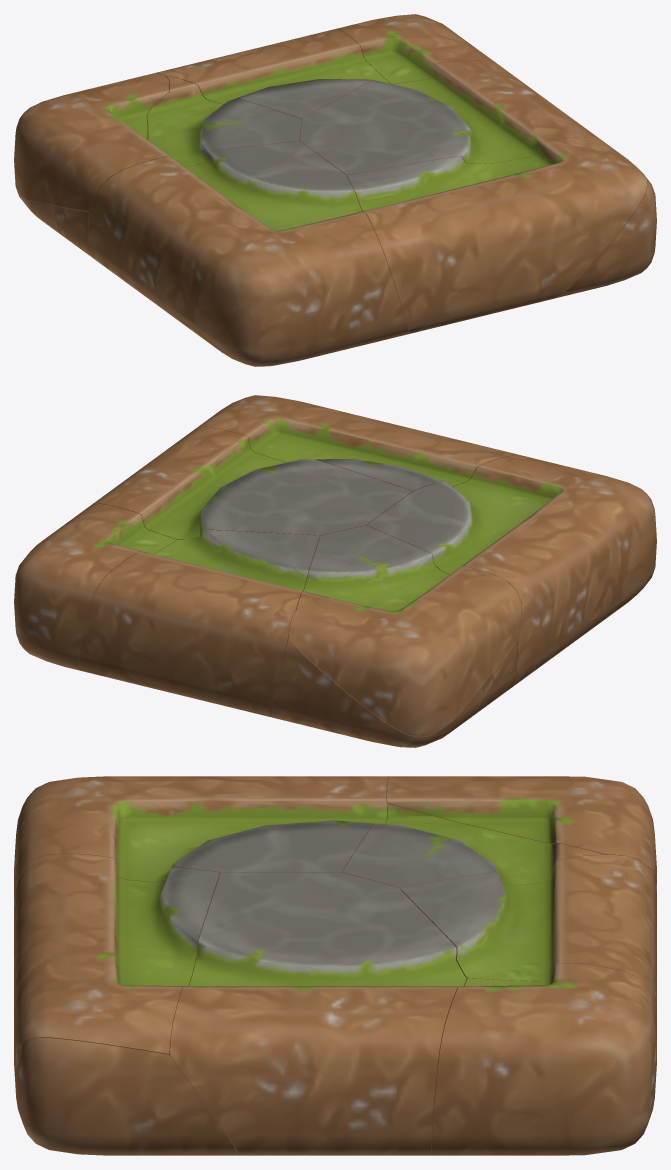
The model's file is arena block 1 broken.fbx.
3 views of the same model, one above another, from view 1: azimuth 30°, elevation 25°; view 2: azimuth 150°, elevation 25°; view 3: azimuth 270°, elevation 25° (orthographic). The views are drawn at different scales.
Visible parts, largest first — view 1: arena block 1 lp.002_cell.004, arena block 1 lp.002_cell.003, arena block 1 lp.002_cell.005, arena block 1 lp.002_cell, arena block 1 lp.002_cell.007, arena block 1 lp.002_cell.001, arena block 1 lp.002_cell.006, arena block 1 lp.002_cell.002; view 2: arena block 1 lp.002_cell.004, arena block 1 lp.002_cell.007, arena block 1 lp.002_cell, arena block 1 lp.002_cell.005, arena block 1 lp.002_cell.001, arena block 1 lp.002_cell.003, arena block 1 lp.002_cell.006; view 3: arena block 1 lp.002_cell.005, arena block 1 lp.002_cell.006, arena block 1 lp.002_cell.004, arena block 1 lp.002_cell.003, arena block 1 lp.002_cell.007, arena block 1 lp.002_cell.002, arena block 1 lp.002_cell, arena block 1 lp.002_cell.001.
Part boxes in pixels (<box>): arena block 1 lp.002_cell.004: <box>88,141,409,366</box>; arena block 1 lp.002_cell.003: <box>347,137,647,333</box>; arena block 1 lp.002_cell.005: <box>300,60,601,177</box>; arena block 1 lp.002_cell: <box>14,73,168,211</box>; arena block 1 lp.002_cell.007: <box>150,28,390,119</box>; arena block 1 lp.002_cell.001: <box>17,76,301,262</box>; arena block 1 lp.002_cell.006: <box>336,14,496,84</box>; arena block 1 lp.002_cell.002: <box>555,171,656,298</box>; arena block 1 lp.002_cell.004: <box>367,454,656,690</box>; arena block 1 lp.002_cell.007: <box>78,529,319,716</box>; arena block 1 lp.002_cell: <box>289,566,521,736</box>; arena block 1 lp.002_cell.005: <box>91,426,412,539</box>; arena block 1 lp.002_cell.001: <box>271,525,517,747</box>; arena block 1 lp.002_cell.003: <box>196,395,521,491</box>; arena block 1 lp.002_cell.006: <box>14,503,176,670</box>; arena block 1 lp.002_cell.005: <box>170,872,466,1155</box>; arena block 1 lp.002_cell.006: <box>432,963,656,1155</box>; arena block 1 lp.002_cell.004: <box>14,776,389,923</box>; arena block 1 lp.002_cell.003: <box>14,853,219,1058</box>; arena block 1 lp.002_cell.007: <box>399,855,656,1043</box>; arena block 1 lp.002_cell.002: <box>14,1038,237,1155</box>; arena block 1 lp.002_cell: <box>387,776,656,877</box>; arena block 1 lp.002_cell.001: <box>342,804,656,920</box>.
Size of the model in its own units: 200 by 49.95 by 200.
